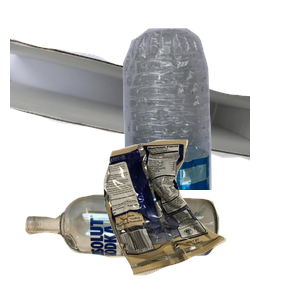cardboard: (10, 35, 250, 188)
glass: (22, 192, 234, 300)
plastic: (111, 26, 300, 206)
trash: (101, 137, 300, 300)
